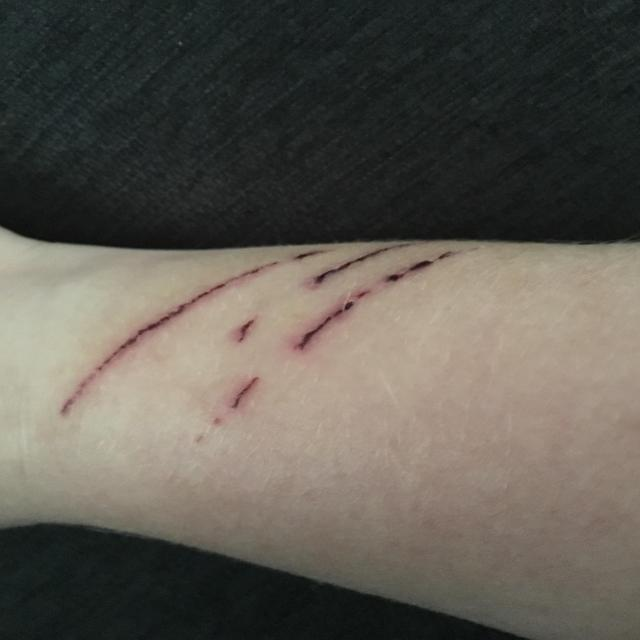Cut: (202, 246, 474, 444), (48, 246, 329, 421), (316, 240, 387, 286), (222, 310, 265, 350)
